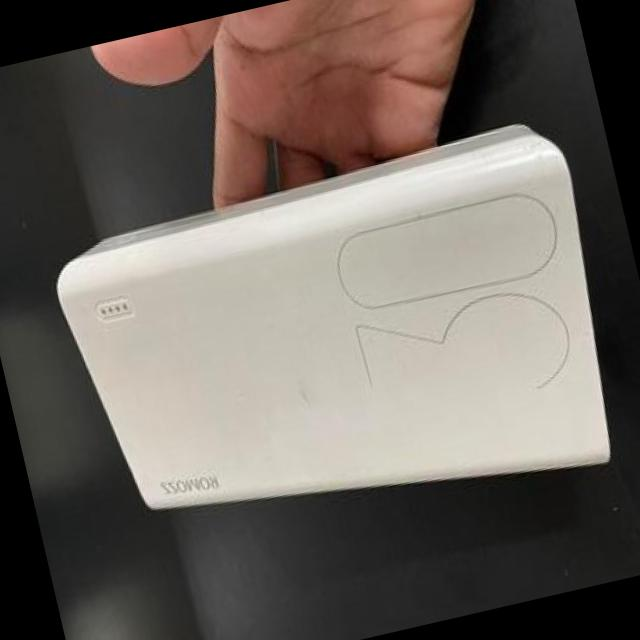power_bank: (26, 101, 640, 588)
